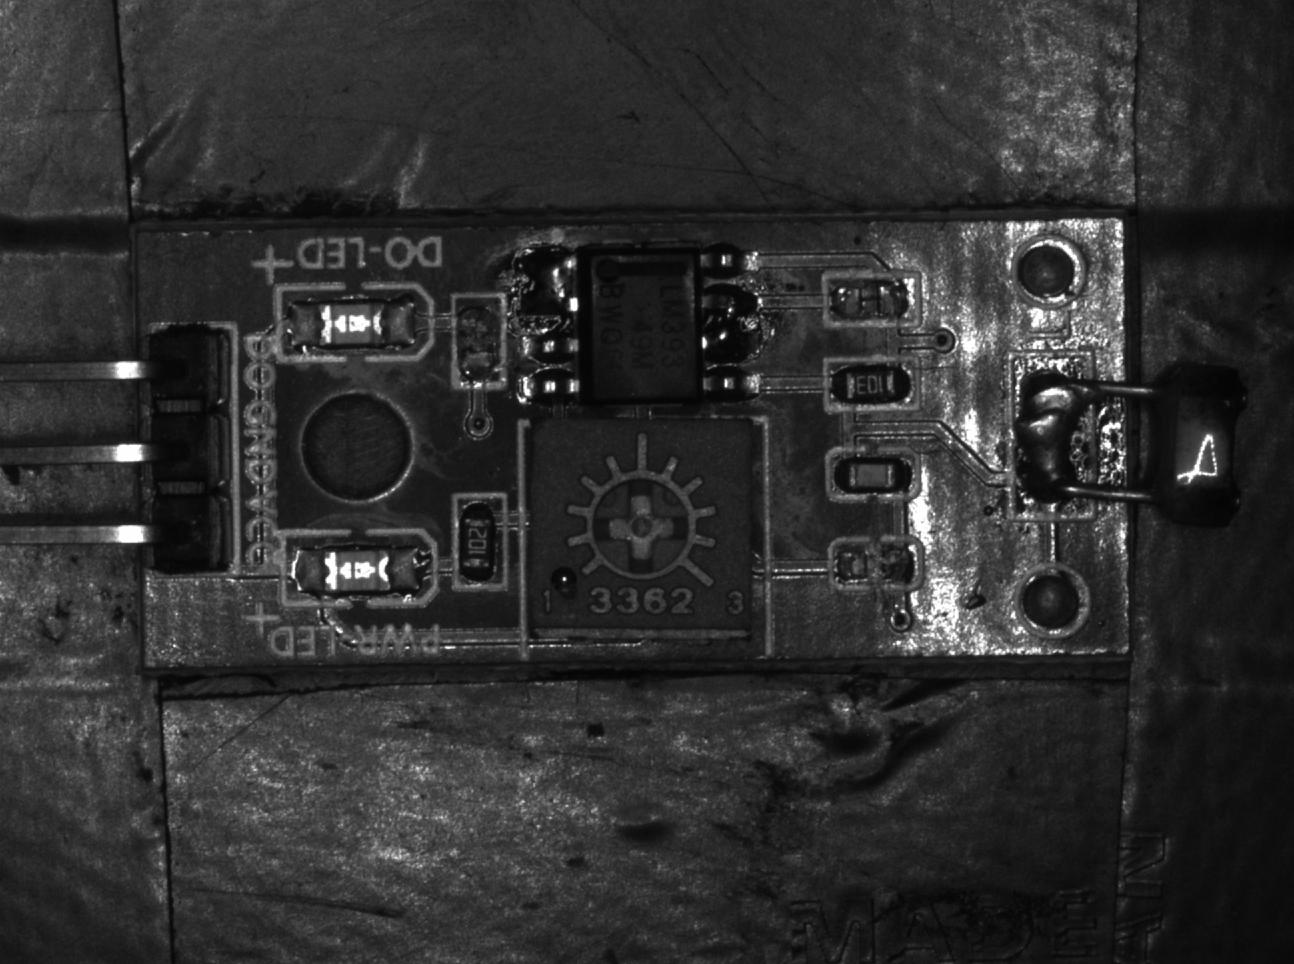bridge: (1013, 351, 1096, 521), (699, 288, 765, 361), (516, 246, 579, 323)
miss: (819, 271, 920, 330), (828, 539, 923, 588), (458, 291, 504, 391)
ok: (828, 356, 921, 414), (456, 493, 508, 590), (826, 448, 923, 500)
